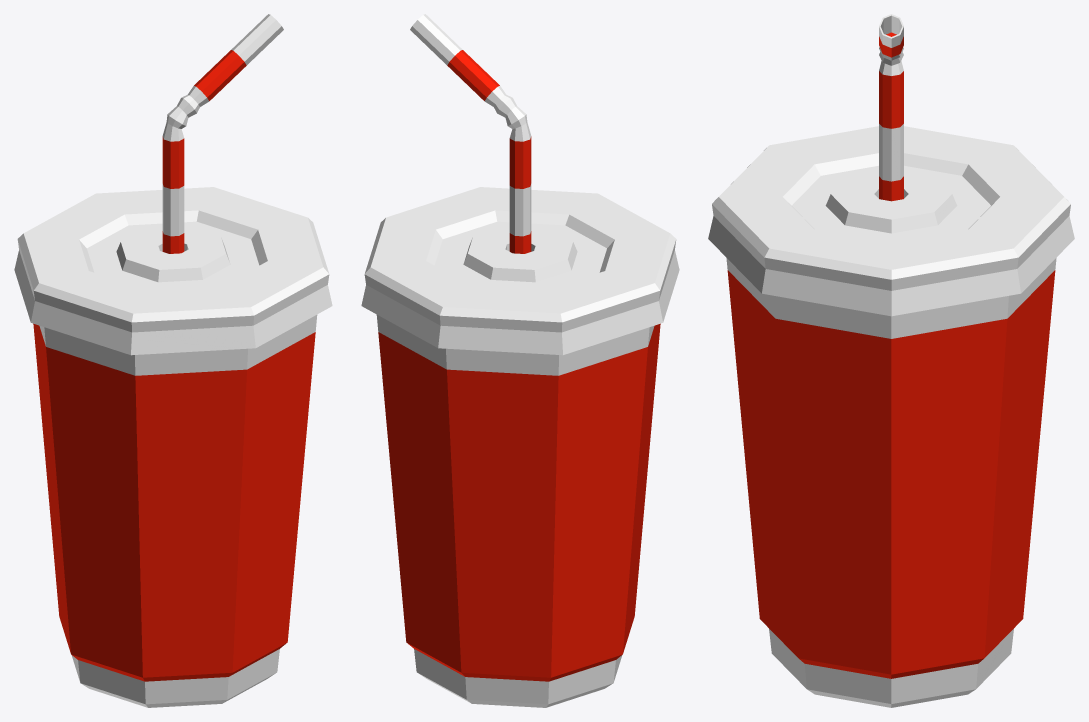
The model's file is soda.glb.
3 views of the same model, side by side, from view 1: azimuth 30°, elevation 25°; view 2: azimuth 150°, elevation 25°; view 3: azimuth 270°, elevation 25° (orthographic). The views are drawn at different scales.
Parts seen in each view (by area): view 1: Soda; view 2: Soda; view 3: Soda.
Boxes of the visible parts, bbox=[...] form: Soda: bbox=[14, 14, 332, 707]; Soda: bbox=[361, 14, 679, 707]; Soda: bbox=[708, 14, 1074, 707].
Bounding box in the file's own units: 0.2297 × 0.4844 × 0.2297.
